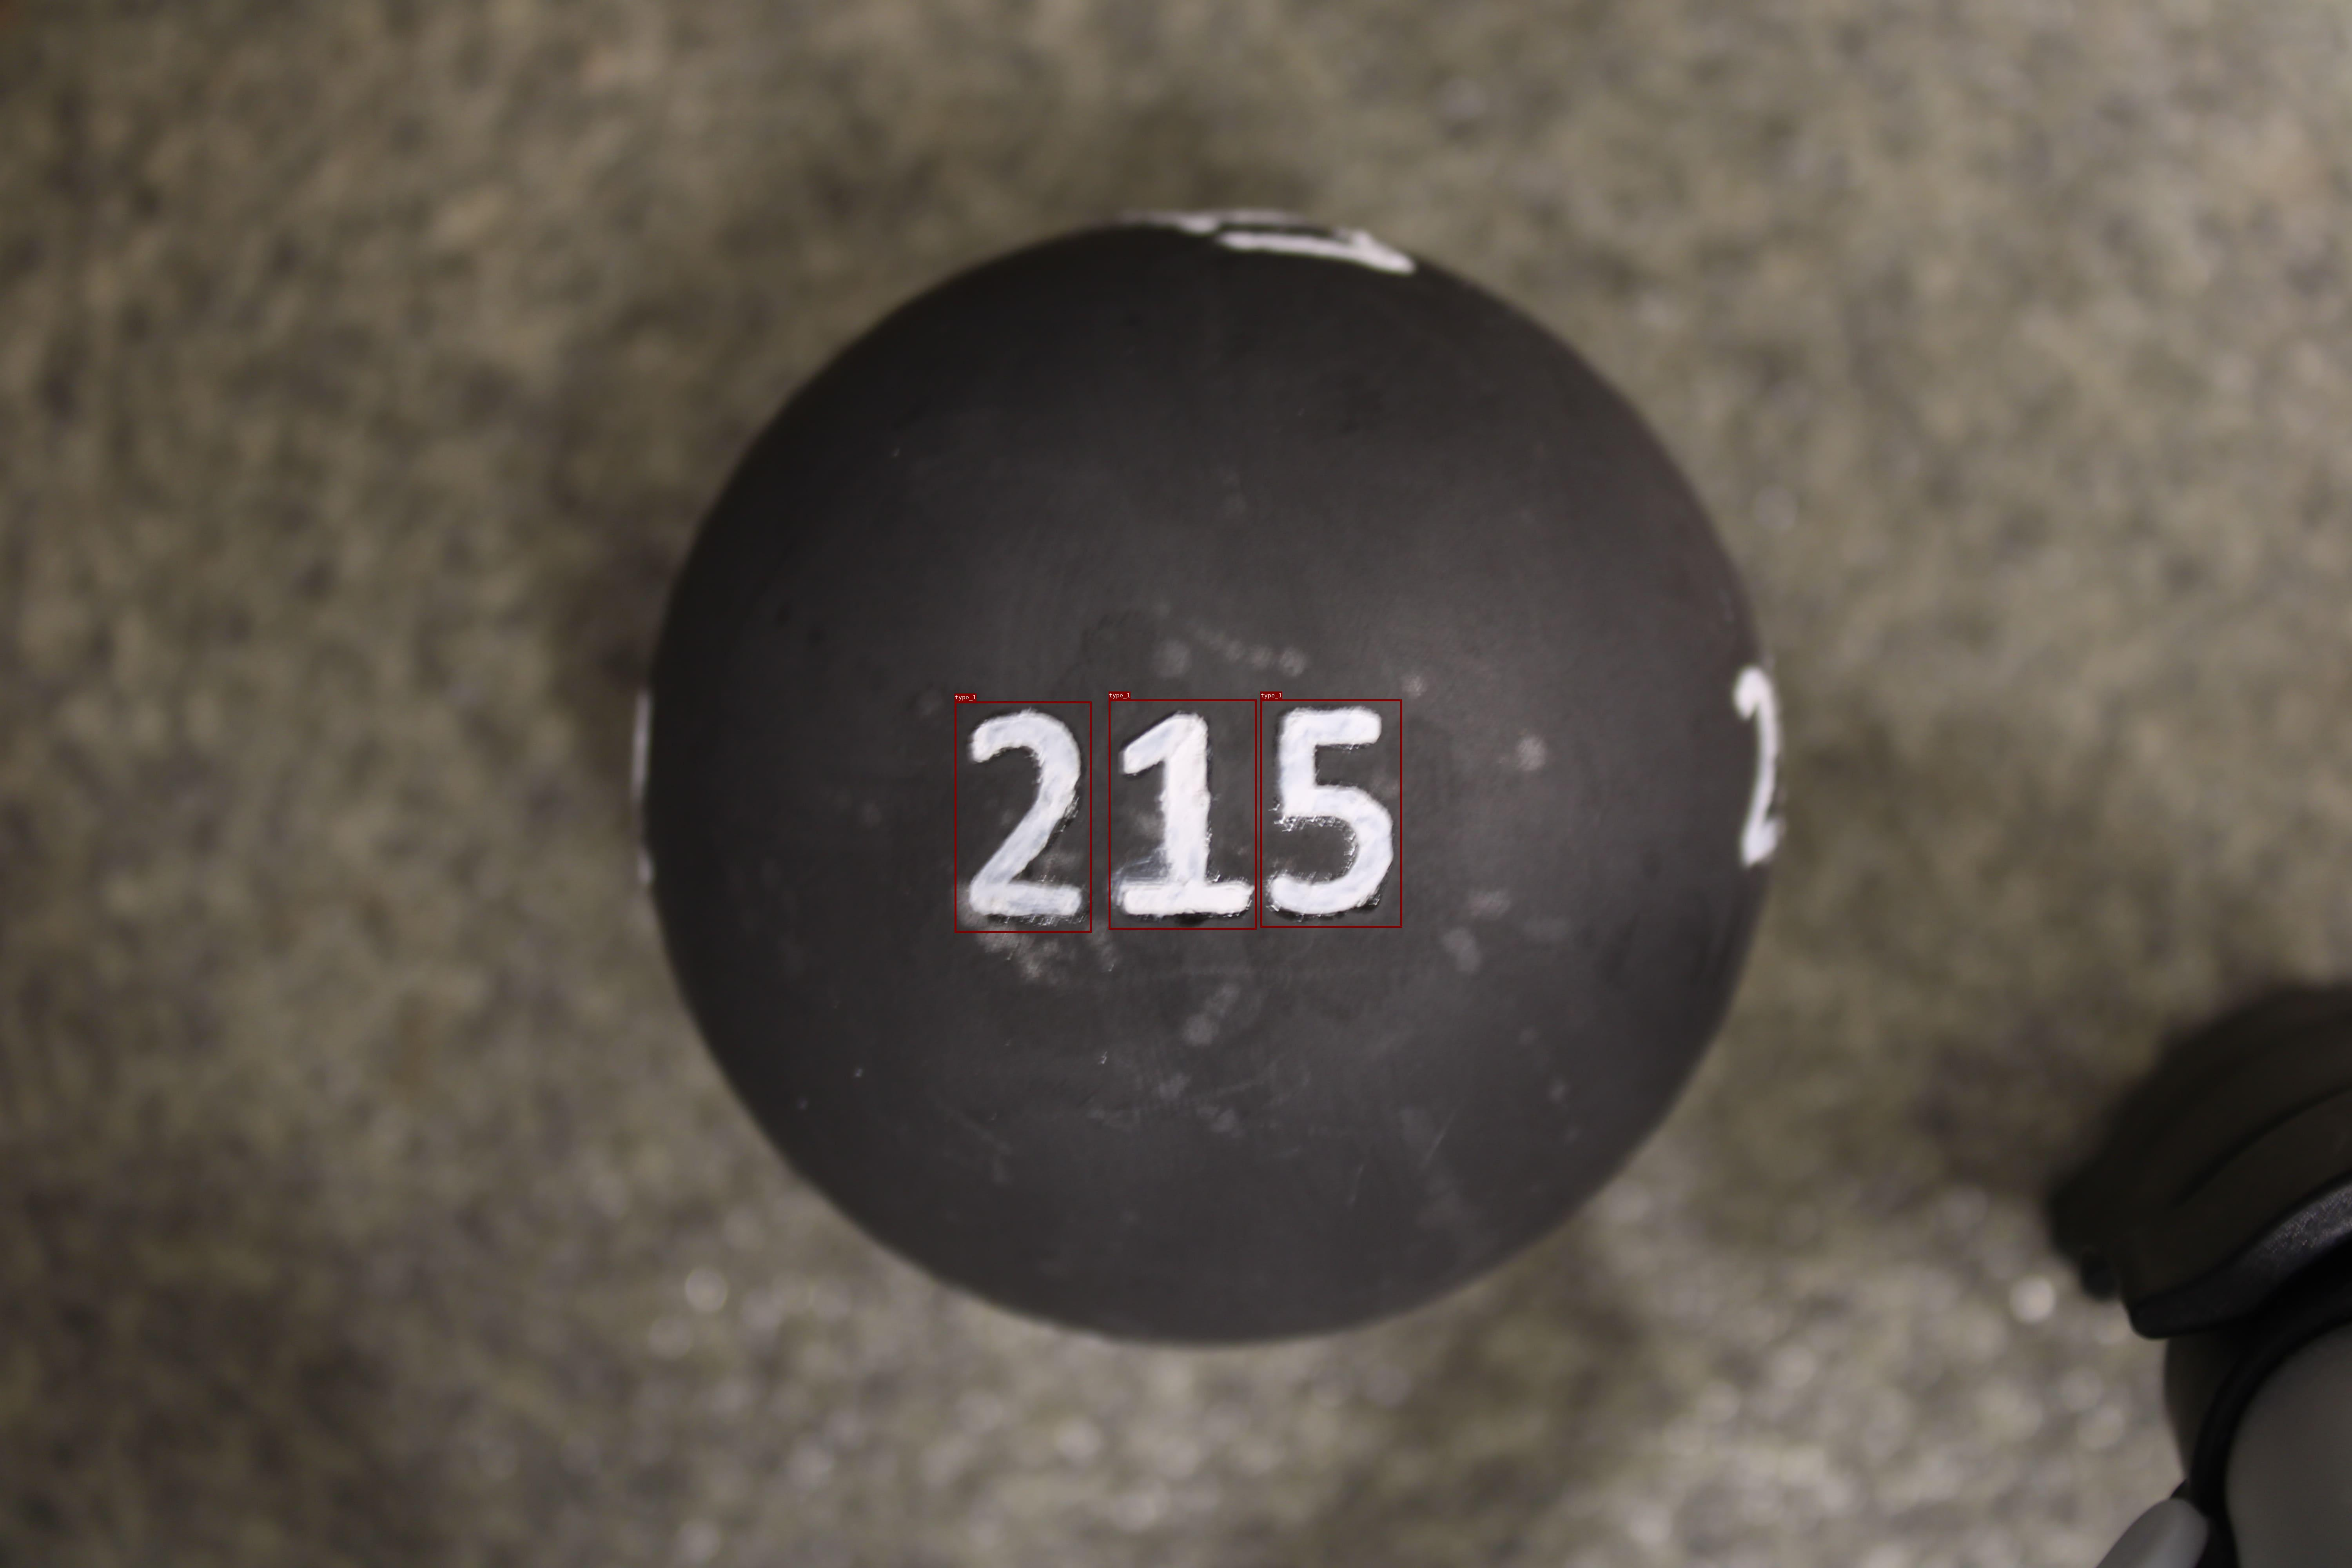type_1: (1108, 700, 1257, 929), (1260, 700, 1402, 927), (954, 702, 1092, 933)
